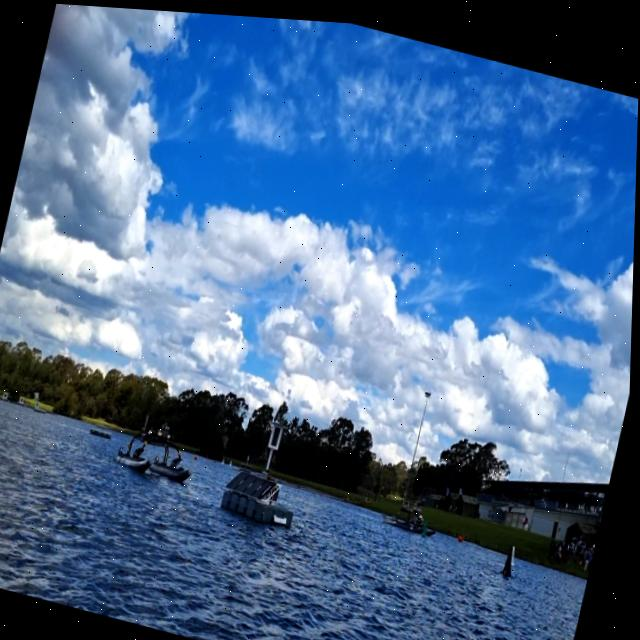led: (272, 420, 285, 445)
